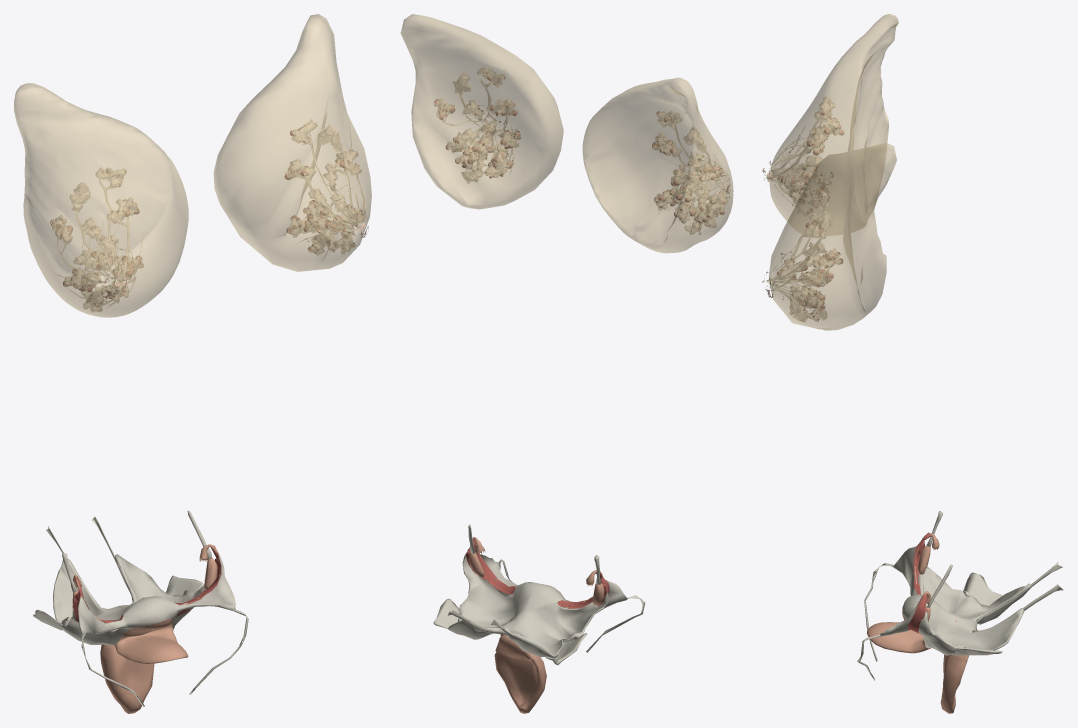
The model's file is adult_female.reproductive.LOD3.glb.
The picture shows the model from 3 angles, left to right: view 1: azimuth 30°, elevation 25°; view 2: azimuth 150°, elevation 25°; view 3: azimuth 270°, elevation 25°; orthographic projection. The views are drawn at different scales.
Visible parts, largest first — view 1: ADULT.FEMALE.REPRODUCTIVE.MAMMARY_FAT.R, ADULT.FEMALE.REPRODUCTIVE.MAMMARY_FAT.L, ADULT.FEMALE.REPRODUCTIVE.BROAD_LIGAMENT, ADULT.FEMALE.REPRODUCTIVE.VAGINA, ADULT.FEMALE.REPRODUCTIVE.UTEROVESICAL_POUCH, ADULT.FEMALE.REPRODUCTIVE.MAMMARY_LOBES.L, ADULT.FEMALE.REPRODUCTIVE.MAMMARY_LOBES.R; view 2: ADULT.FEMALE.REPRODUCTIVE.MAMMARY_FAT.L, ADULT.FEMALE.REPRODUCTIVE.MAMMARY_FAT.R, ADULT.FEMALE.REPRODUCTIVE.BROAD_LIGAMENT, ADULT.FEMALE.REPRODUCTIVE.VAGINA, ADULT.FEMALE.REPRODUCTIVE.MAMMARY_LOBES.L, ADULT.FEMALE.REPRODUCTIVE.MAMMARY_LOBES.R; view 3: ADULT.FEMALE.REPRODUCTIVE.MAMMARY_FAT.L, ADULT.FEMALE.REPRODUCTIVE.MAMMARY_FAT.R, ADULT.FEMALE.REPRODUCTIVE.BROAD_LIGAMENT, ADULT.FEMALE.REPRODUCTIVE.UTEROVESICAL_POUCH, ADULT.FEMALE.REPRODUCTIVE.VAGINA, ADULT.FEMALE.REPRODUCTIVE.MAMMARY_LOBES.L, ADULT.FEMALE.REPRODUCTIVE.CARDINAL_LIGAMENT_OF_UTERUS.R, ADULT.FEMALE.REPRODUCTIVE.MAMMARY_LOBES.R.
Boxes of the visible parts, x1=… form: ADULT.FEMALE.REPRODUCTIVE.MAMMARY_FAT.R: x1=14, y1=83, x2=188, y2=317; ADULT.FEMALE.REPRODUCTIVE.MAMMARY_FAT.L: x1=213, y1=14, x2=371, y2=271; ADULT.FEMALE.REPRODUCTIVE.BROAD_LIGAMENT: x1=53, y1=552, x2=235, y2=645; ADULT.FEMALE.REPRODUCTIVE.VAGINA: x1=100, y1=644, x2=154, y2=713; ADULT.FEMALE.REPRODUCTIVE.UTEROVESICAL_POUCH: x1=115, y1=619, x2=188, y2=663; ADULT.FEMALE.REPRODUCTIVE.MAMMARY_LOBES.L: x1=284, y1=123, x2=362, y2=253; ADULT.FEMALE.REPRODUCTIVE.MAMMARY_LOBES.R: x1=50, y1=169, x2=143, y2=310; ADULT.FEMALE.REPRODUCTIVE.MAMMARY_FAT.L: x1=400, y1=14, x2=563, y2=209; ADULT.FEMALE.REPRODUCTIVE.MAMMARY_FAT.R: x1=582, y1=77, x2=733, y2=253; ADULT.FEMALE.REPRODUCTIVE.BROAD_LIGAMENT: x1=448, y1=552, x2=627, y2=658; ADULT.FEMALE.REPRODUCTIVE.VAGINA: x1=494, y1=651, x2=546, y2=713; ADULT.FEMALE.REPRODUCTIVE.MAMMARY_LOBES.L: x1=434, y1=71, x2=520, y2=179; ADULT.FEMALE.REPRODUCTIVE.MAMMARY_LOBES.R: x1=652, y1=111, x2=724, y2=234; ADULT.FEMALE.REPRODUCTIVE.MAMMARY_FAT.L: x1=769, y1=143, x2=896, y2=330; ADULT.FEMALE.REPRODUCTIVE.MAMMARY_FAT.R: x1=769, y1=14, x2=898, y2=235; ADULT.FEMALE.REPRODUCTIVE.BROAD_LIGAMENT: x1=880, y1=546, x2=1030, y2=655; ADULT.FEMALE.REPRODUCTIVE.UTEROVESICAL_POUCH: x1=867, y1=612, x2=931, y2=653; ADULT.FEMALE.REPRODUCTIVE.VAGINA: x1=940, y1=655, x2=967, y2=713; ADULT.FEMALE.REPRODUCTIVE.MAMMARY_LOBES.L: x1=777, y1=188, x2=842, y2=321; ADULT.FEMALE.REPRODUCTIVE.CARDINAL_LIGAMENT_OF_UTERUS.R: x1=963, y1=572, x2=1002, y2=605; ADULT.FEMALE.REPRODUCTIVE.MAMMARY_LOBES.R: x1=777, y1=101, x2=843, y2=214.
Bounding box in the file's own units: 0.2892 × 0.5807 × 0.2494.
